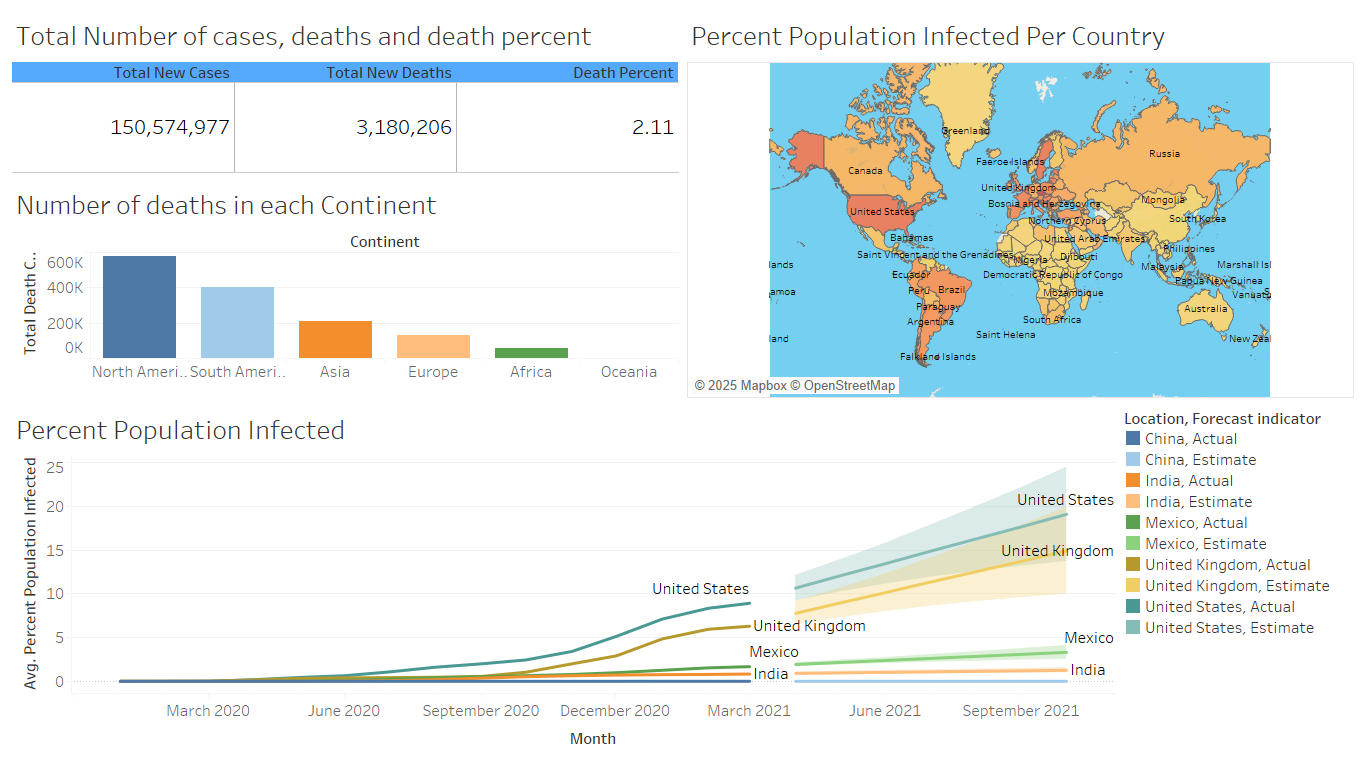

What the dashboard file says about the page in this screenshot:
{"tool":"tableau","page":{"name":"Covid Dashboard","canvas":[1366,768],"ordinal":0},"visuals":[{"type":"worksheet","title":"Global Numbers","mark":"Automatic","box":[8,8,675,168.8]},{"type":"worksheet","title":"Percent Population Infected Per Country","mark":"Automatic","box":[683,8,675,429]},{"type":"worksheet","title":"Total deaths per Continent","mark":"Automatic","rows":["TotalDeathCount"],"cols":["continent"],"box":[8,176.8,675,260.2]},{"type":"worksheet","title":"Percent Population Infected","mark":"Line","rows":["PercentPopulationInfected"],"cols":["date"],"box":[8,437,1111.3,323]},{"type":"legend","title":"Percent Population Infected","param":"[federated.0ed9s250bpbyhj1d6wooi0off6xu].[none:Location:nk]\n[federated.0ed9s250b","box":[1119.3,437,238.7,323]}]}

Visuals, with their boxes in screenshot pixels (x1, y1, x2, y2), scaled from the page's 1366x768 canvas onto the 1366x768 screenshot:
"Global Numbers" worksheet: Rect(8, 8, 683, 177)
"Percent Population Infected Per Country" worksheet: Rect(683, 8, 1358, 437)
"Total deaths per Continent" worksheet: Rect(8, 177, 683, 437)
"Percent Population Infected" worksheet (Line marks): Rect(8, 437, 1119, 760)
"Percent Population Infected" legend: Rect(1119, 437, 1358, 760)
